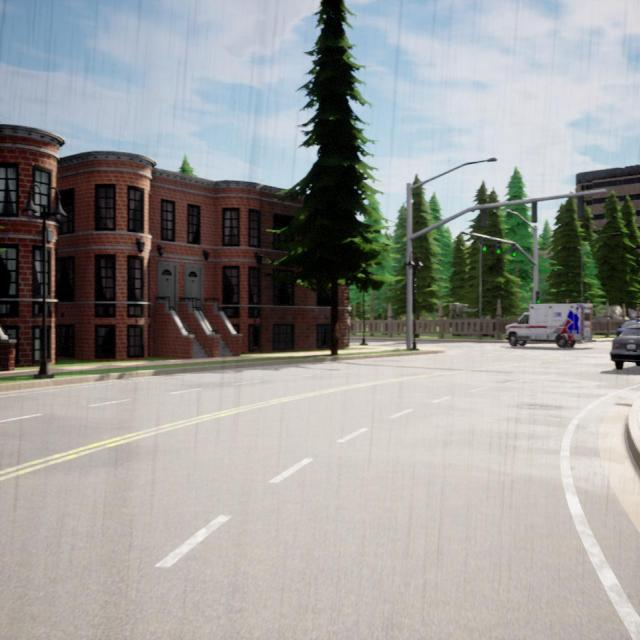Vehicle: (504, 303, 593, 347), (610, 319, 640, 370)
traffic_light: (578, 195, 584, 218), (532, 202, 537, 222), (481, 209, 486, 227), (481, 238, 487, 251), (512, 242, 516, 258), (536, 290, 540, 304), (496, 241, 500, 254)
